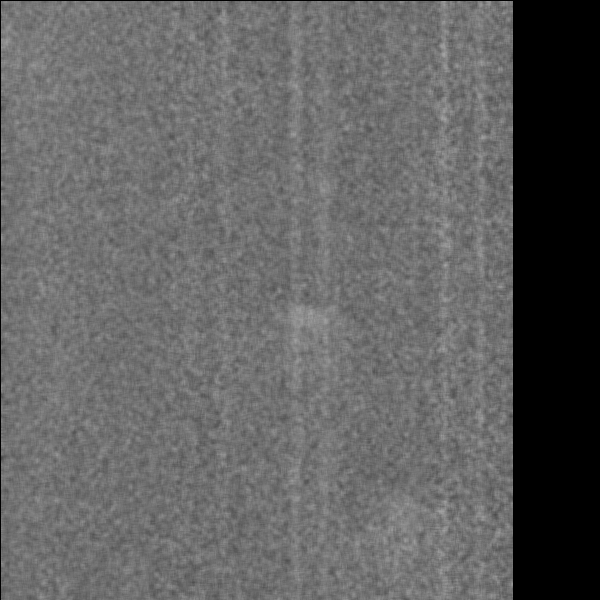spark: (277, 309, 320, 334)
